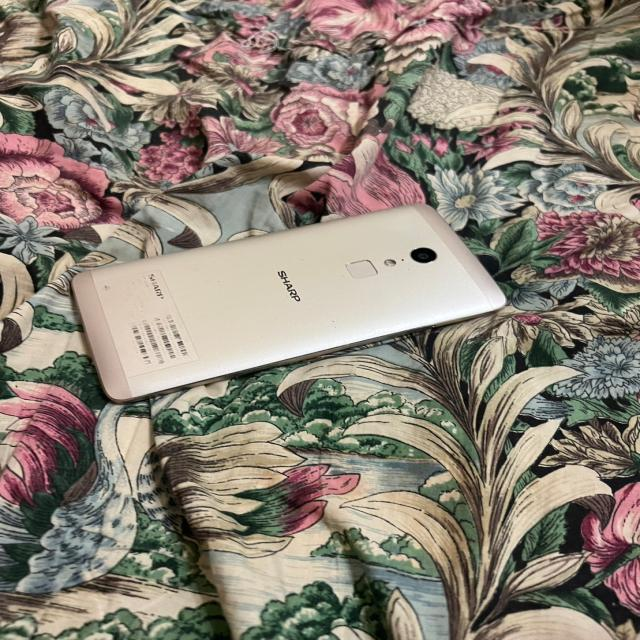phone: (71, 204, 506, 402)
